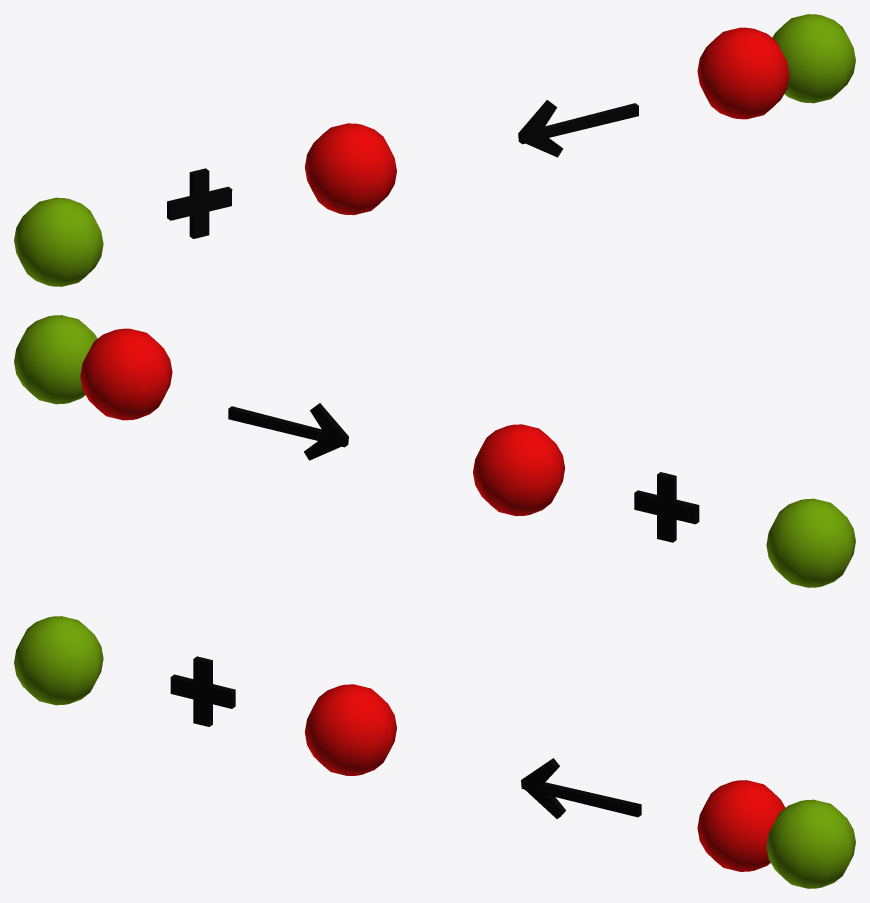
File: nacl_formula.fbx
3 renders of one model, top to bottom at view 1: azimuth 30°, elevation 25°; view 2: azimuth 150°, elevation 25°; view 3: azimuth 330°, elevation 25°, orthographic.
Visible parts, largest first — view 1: nacl_formula; view 2: nacl_formula; view 3: nacl_formula.
Boxes of the visible parts, x1,y1,x2,y2 form: nacl_formula: (14, 14, 855, 286); nacl_formula: (14, 315, 855, 587); nacl_formula: (14, 616, 855, 888).
Bounding box in the file's own units: 148 × 14.39 × 13.61.
